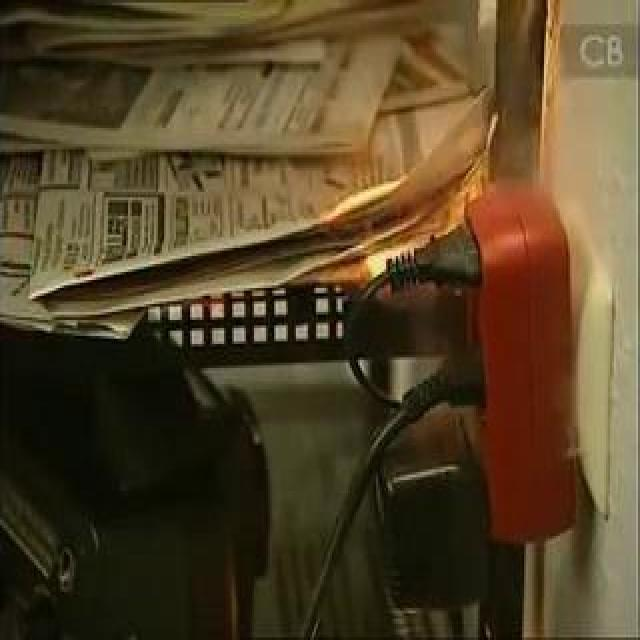Fire: (297, 3, 527, 317)
